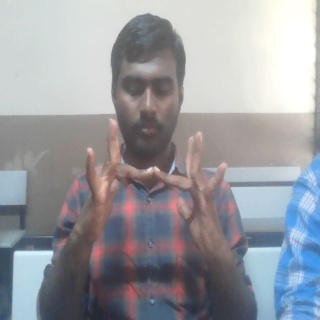Internet: (80, 115, 230, 265)
